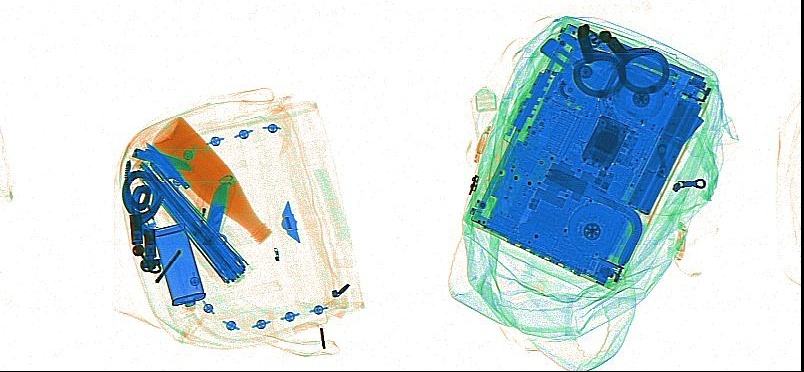handcuffs: (572, 23, 669, 97), (121, 159, 165, 272)
knife: (537, 38, 703, 149), (146, 141, 214, 218), (200, 180, 233, 244), (131, 146, 191, 170)
lighter: (189, 183, 216, 238)
zippooil: (152, 223, 207, 306)
